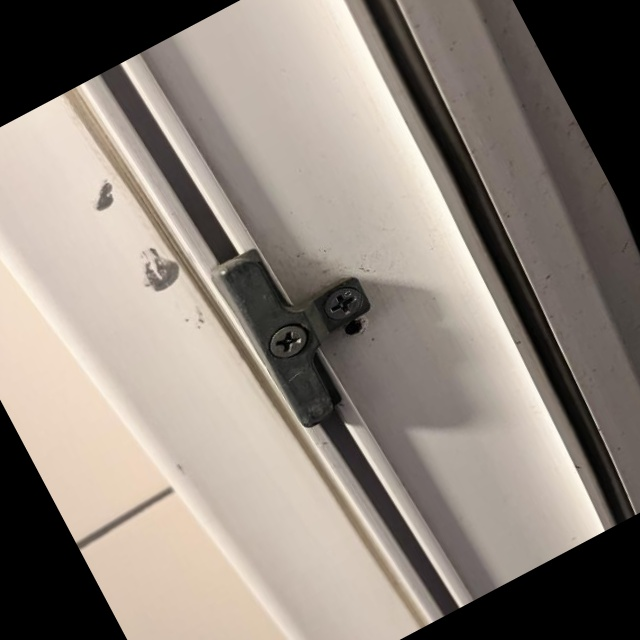phillips: (318, 280, 369, 327), (263, 319, 314, 365)
